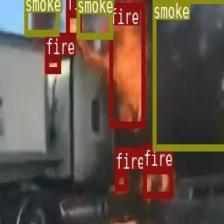fire: (109, 2, 144, 126), (143, 167, 172, 197), (66, 10, 80, 38), (45, 54, 60, 72), (115, 170, 126, 190)
smoke: (152, 0, 224, 149), (76, 0, 112, 38), (23, 0, 58, 35)
